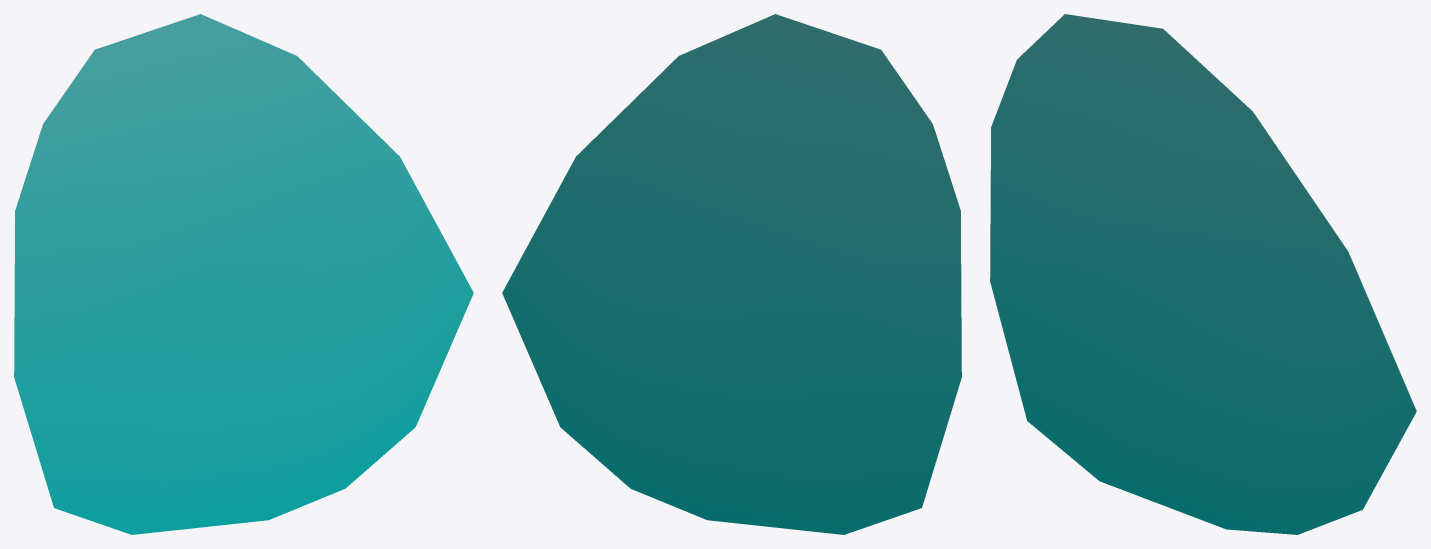
The model's file is Elderberry_wfzobb2ia_Mid_wfzobb2ia_VarA_LOD3.fbx.
3 views of the same model, side by side, from view 1: azimuth 30°, elevation 25°; view 2: azimuth 150°, elevation 25°; view 3: azimuth 330°, elevation 25° (orthographic). The views are drawn at different scales.
Parts seen in each view (by area): view 1: _ykoy_VarA_LOD6; view 2: _ykoy_VarA_LOD6; view 3: _ykoy_VarA_LOD6.
Part boxes in pixels (x1=…): _ykoy_VarA_LOD6: x1=14, y1=14, x2=473, y2=534; _ykoy_VarA_LOD6: x1=502, y1=14, x2=961, y2=534; _ykoy_VarA_LOD6: x1=990, y1=14, x2=1416, y2=534.
Bounding box in the file's own units: 110 × 119 × 0.
